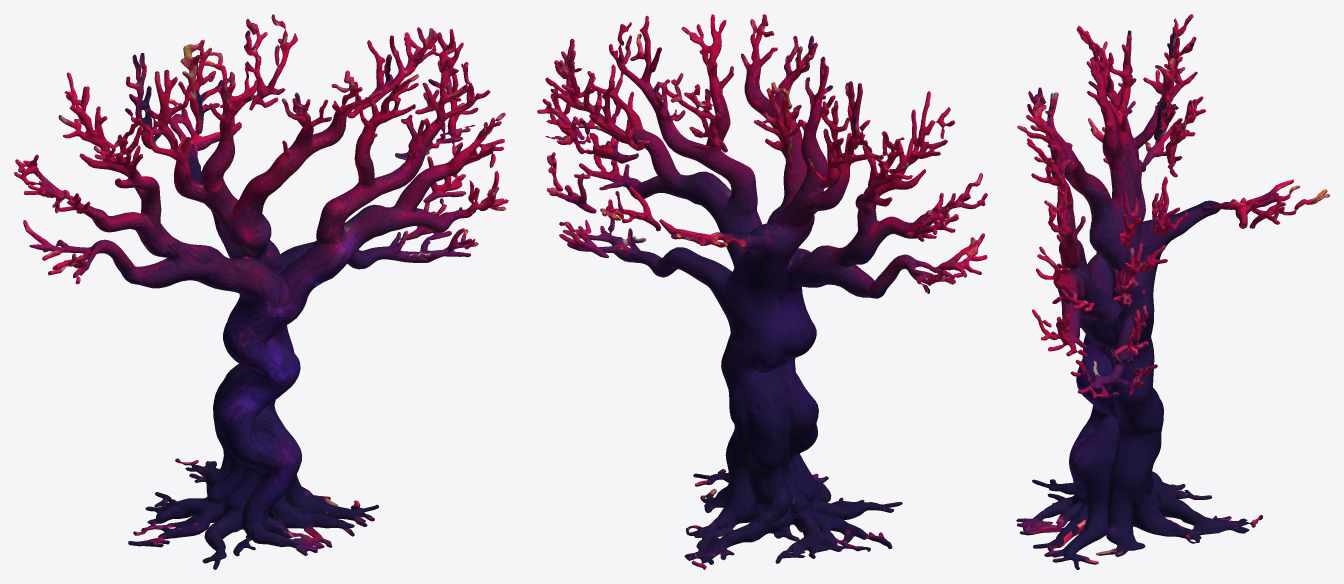
Rendered from branch-ne-generated-2026-04-19T17-33-36-110Z.glb.
3 renders of one model, left to right at view 1: azimuth 30°, elevation 25°; view 2: azimuth 150°, elevation 25°; view 3: azimuth 270°, elevation 25°, orthographic. The views are drawn at different scales.
Visible parts, largest first — view 1: temp_mesh.ply; view 2: temp_mesh.ply; view 3: temp_mesh.ply.
Part boxes in pixels (x1,y1,x2,y2): temp_mesh.ply: (14, 14, 508, 569); temp_mesh.ply: (537, 14, 987, 569); temp_mesh.ply: (1016, 14, 1329, 569).
Size of the model in its own units: 1.95 by 1.97 by 1.24.
1 material, 1 textured.
